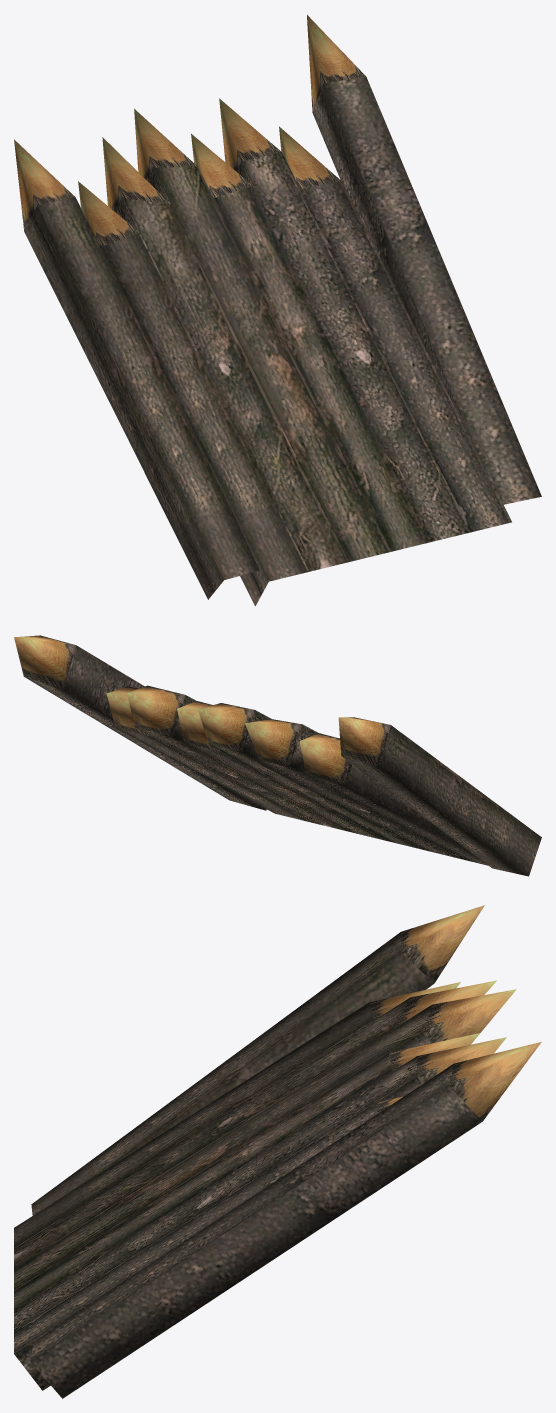
Rendered from building_siege_spikes.glb.
3 views of the same model, one above another, from view 1: azimuth 30°, elevation 25°; view 2: azimuth 150°, elevation 25°; view 3: azimuth 270°, elevation 25° (orthographic). The views are drawn at different scales.
Visible parts, largest first — view 1: building_siege_spikes; view 2: building_siege_spikes; view 3: building_siege_spikes.
Part boxes in pixels (left/top/right/bottom): building_siege_spikes: left=14, top=15, right=541, bottom=606; building_siege_spikes: left=14, top=635, right=541, bottom=876; building_siege_spikes: left=14, top=905, right=541, bottom=1398.
Bounding box in the file's own units: 2.05 × 1.93 × 2.49.
2 materials, 2 textured.
